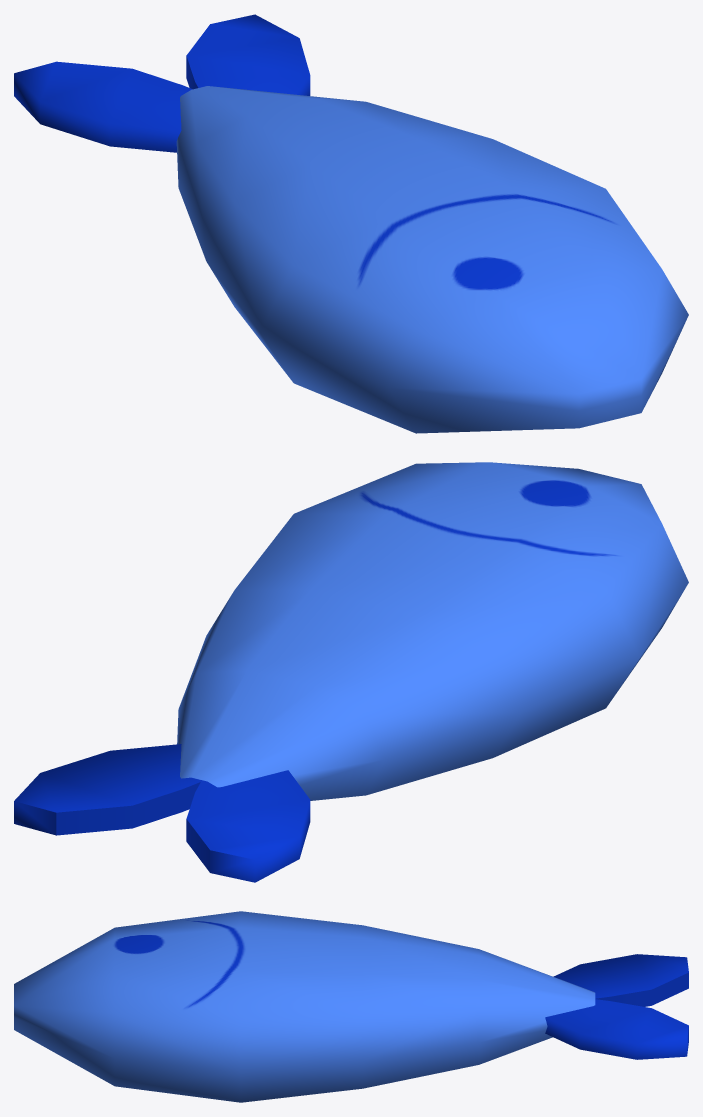
Rendered from fish.FBX.
3 views of the same model, one above another, from view 1: azimuth 30°, elevation 25°; view 2: azimuth 150°, elevation 25°; view 3: azimuth 270°, elevation 25° (orthographic). The views are drawn at different scales.
Parts seen in each view (by area): view 1: Box1180; view 2: Box1180; view 3: Box1180.
Part boxes in pixels (x1,y1,x2,y2): Box1180: (14,14,688,433); Box1180: (14,462,688,882); Box1180: (14,911,688,1102).
Size of the model in its own units: 0.9832 by 0.3467 by 2.14.
